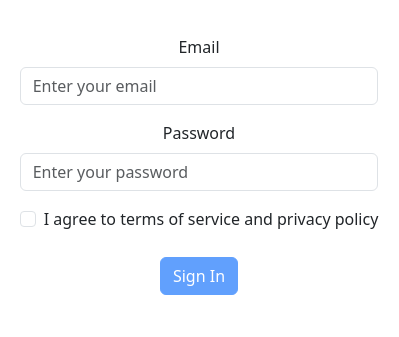
Project E2E testing › wrong email & password test
Step 1. Type "deneme" into the field with test id "input-email" → [200, 86], box [20,67,379,105]
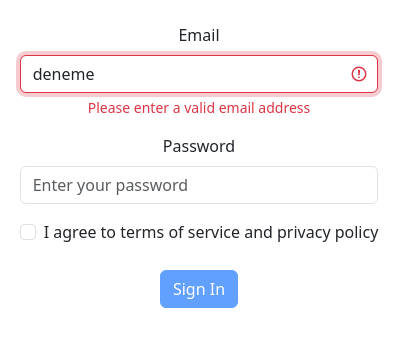
Step 2. Type "1" into the password field with test id "input-password" → [200, 185], box [20,166,379,204]
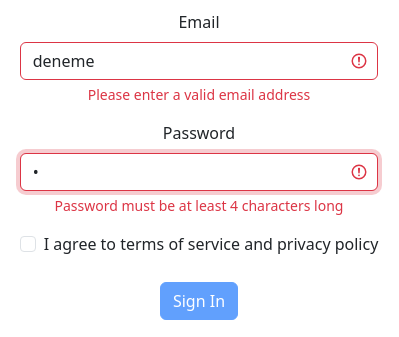
Check: the text "Password must be at least 4 characters long" is shown, box [54,196,343,215]
